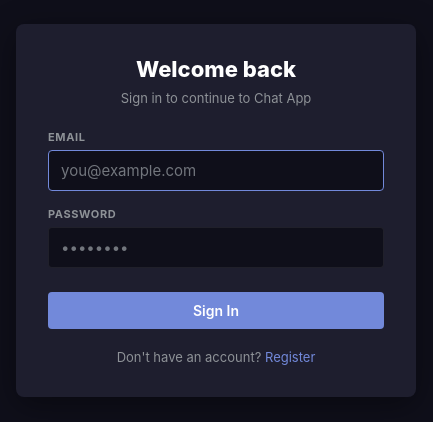
it: Auth pages › shows error on wrong credentials
This screenshot has width=433, height=422.
Type "x@x.com" into the field labelled "Email" at (216, 170), box [48,150,384,190]
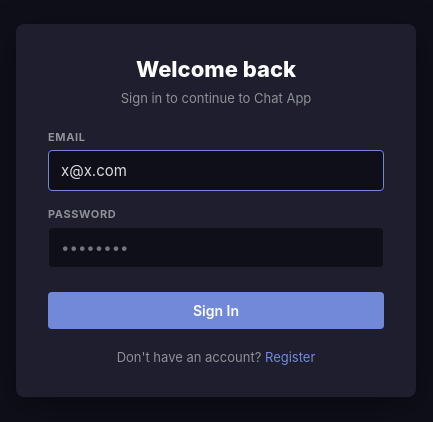
Type "wrong" into the password field labelled "Password" at (216, 247), box [48,226,384,268]
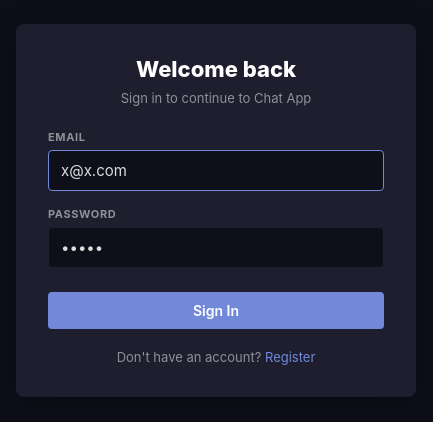
Submit the form "Email Password Sign In", box [48,130,384,328]
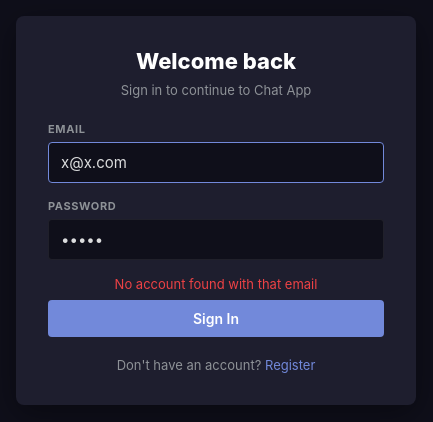
Now the text "No account found with that email" is shown, box [115,276,317,292]
